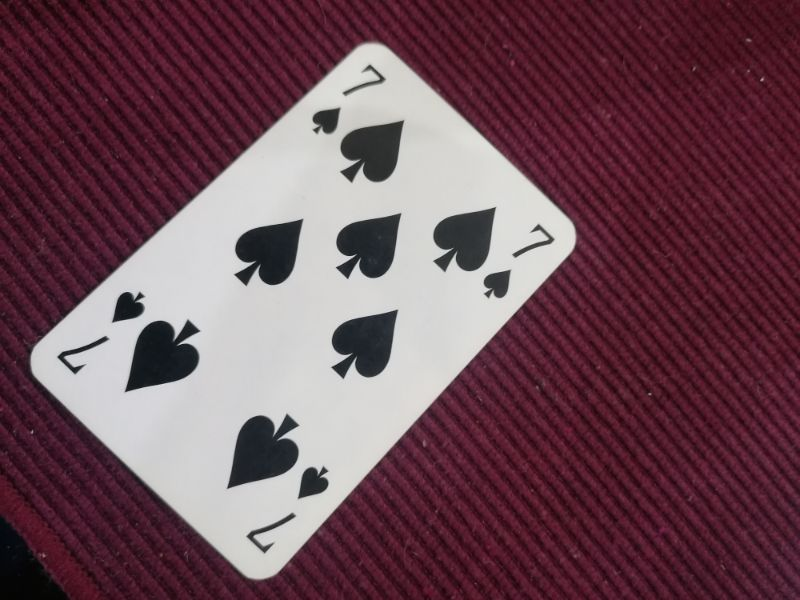7s: (241, 463, 332, 555), (55, 289, 146, 378), (307, 61, 388, 138), (480, 221, 556, 302)
